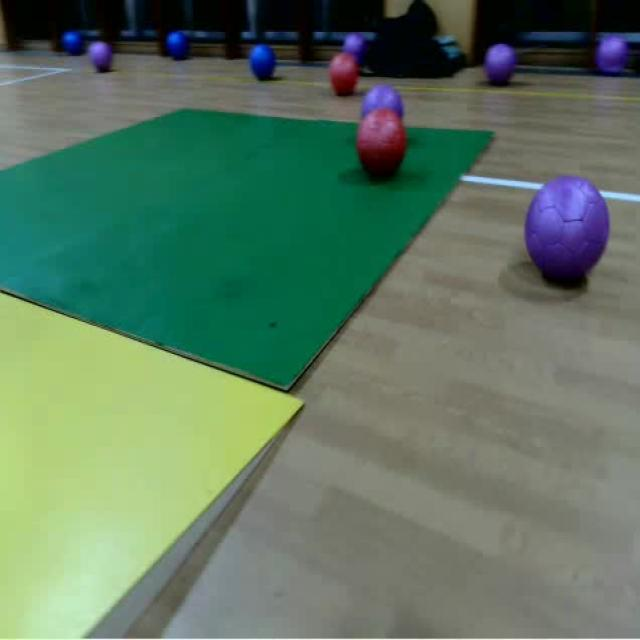blue_ball: (245, 43, 278, 82), (59, 27, 85, 61), (167, 27, 189, 63)
purple_ball: (520, 171, 611, 290), (596, 28, 630, 81), (482, 42, 520, 86), (358, 83, 404, 108), (89, 38, 113, 73)
red_ball: (351, 110, 407, 182), (327, 55, 359, 96)
